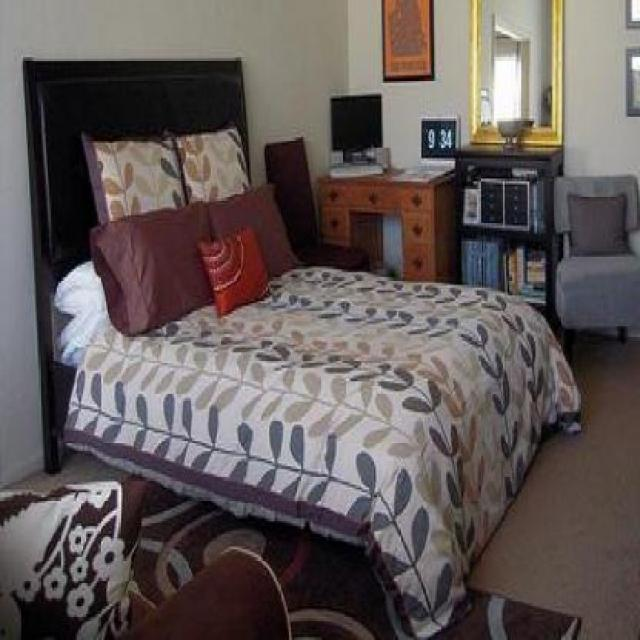Bed: (17, 50, 594, 630)
